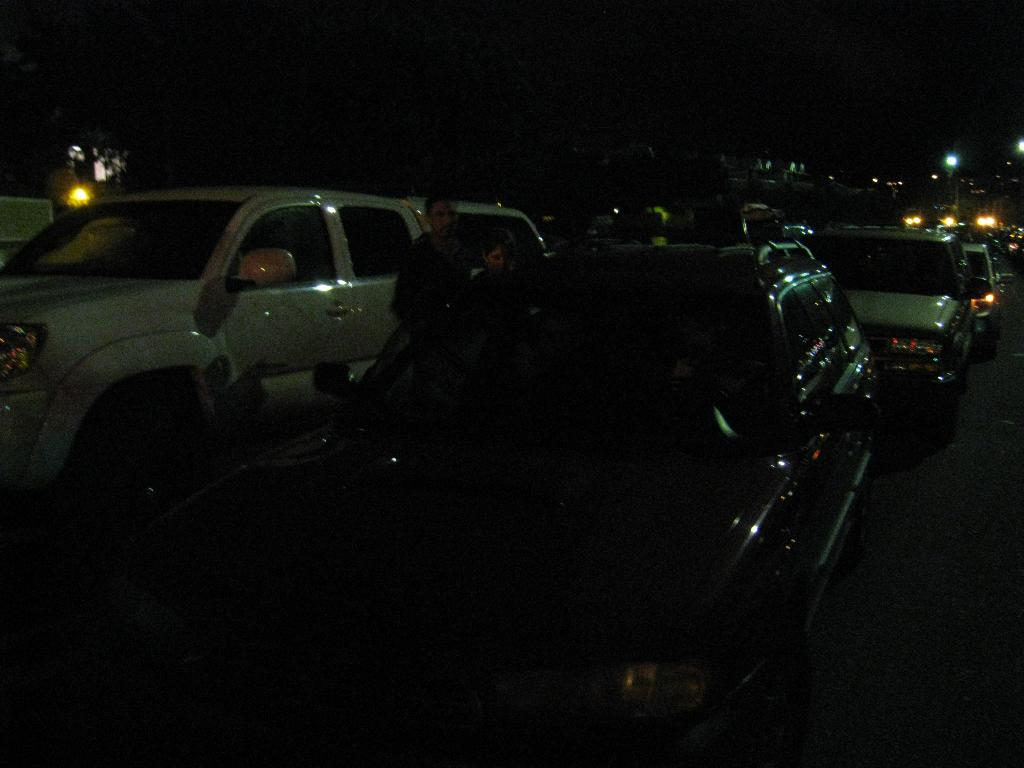cars: (0, 184, 1023, 767)
